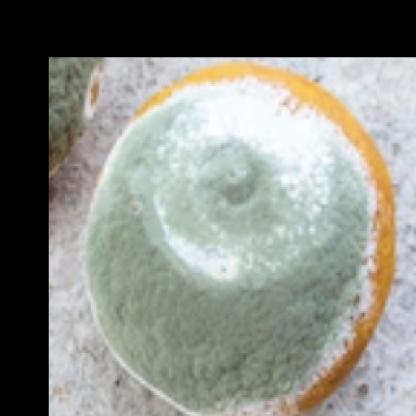rotten: (89, 68, 401, 416)
